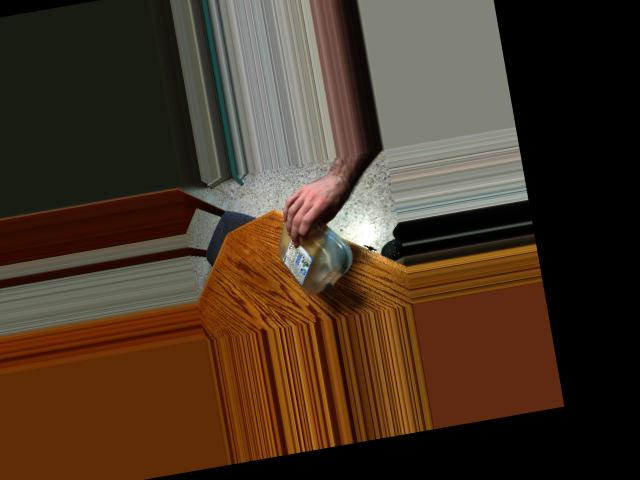cheese: (266, 197, 356, 302)
